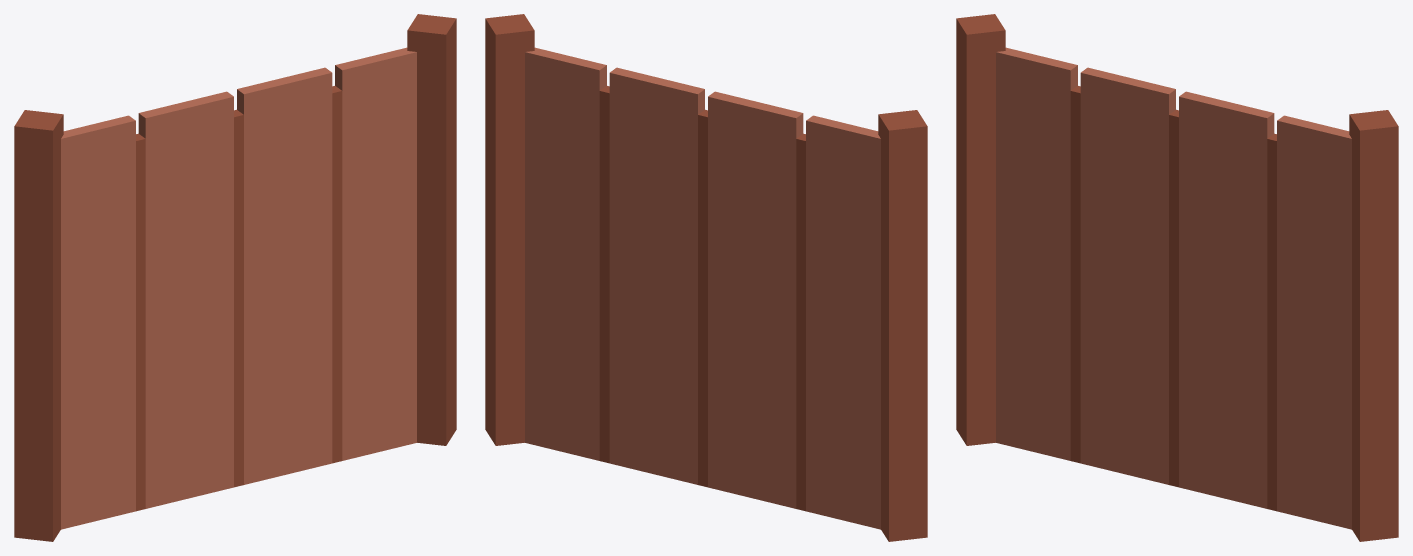
Rendered from Fence.fbx.
3 renders of one model, left to right at view 1: azimuth 30°, elevation 25°; view 2: azimuth 150°, elevation 25°; view 3: azimuth 330°, elevation 25°, orthographic.
Parts seen in each view (by area): view 1: mergedBlocks; view 2: mergedBlocks; view 3: mergedBlocks.
Boxes of the visible parts, x1,y1,x2,y2 form: mergedBlocks: (14, 14, 456, 541); mergedBlocks: (485, 14, 927, 541); mergedBlocks: (956, 14, 1398, 541).
Bounding box in the file's own units: 11.25 × 10 × 1.25.
